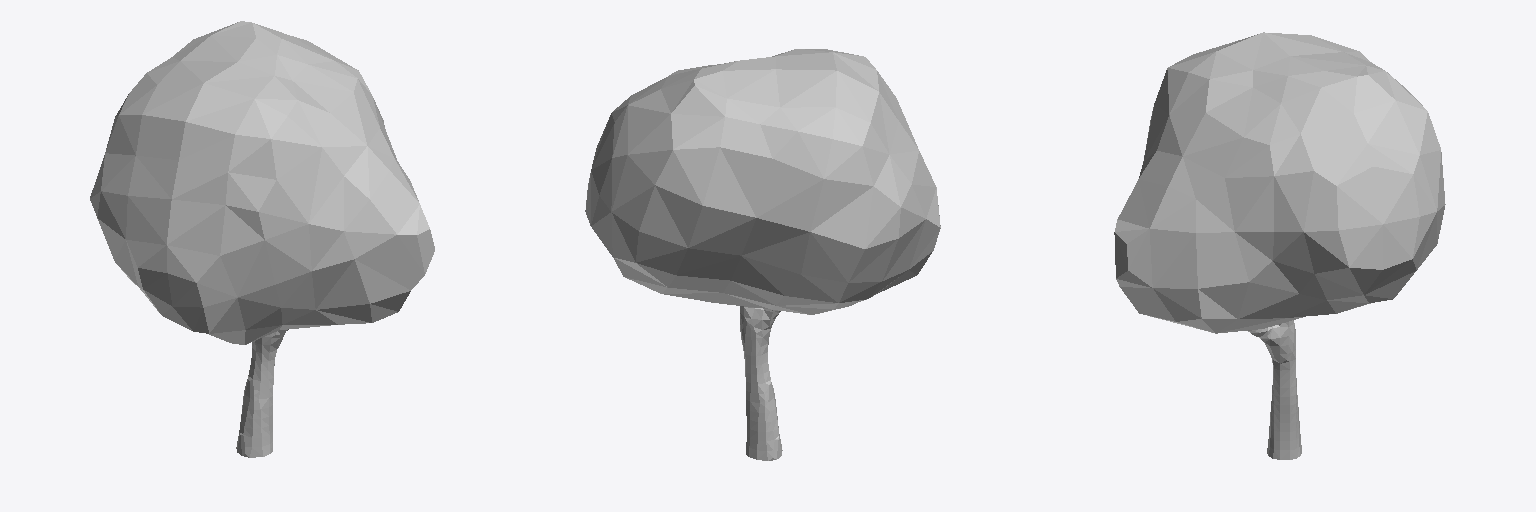
The model's file is tree5.obj.
3 renders of one model, left to right at view 1: azimuth 30°, elevation 25°; view 2: azimuth 150°, elevation 25°; view 3: azimuth 270°, elevation 25°, orthographic.
Visible parts, largest first — view 1: Tree5; view 2: Tree5; view 3: Tree5.
Boxes of the visible parts, <box> form: Tree5: <box>90,21,434,457</box>; Tree5: <box>585,49,940,460</box>; Tree5: <box>1114,32,1445,459</box>.
Size of the model in its own units: 7.76 by 10.02 by 7.65.